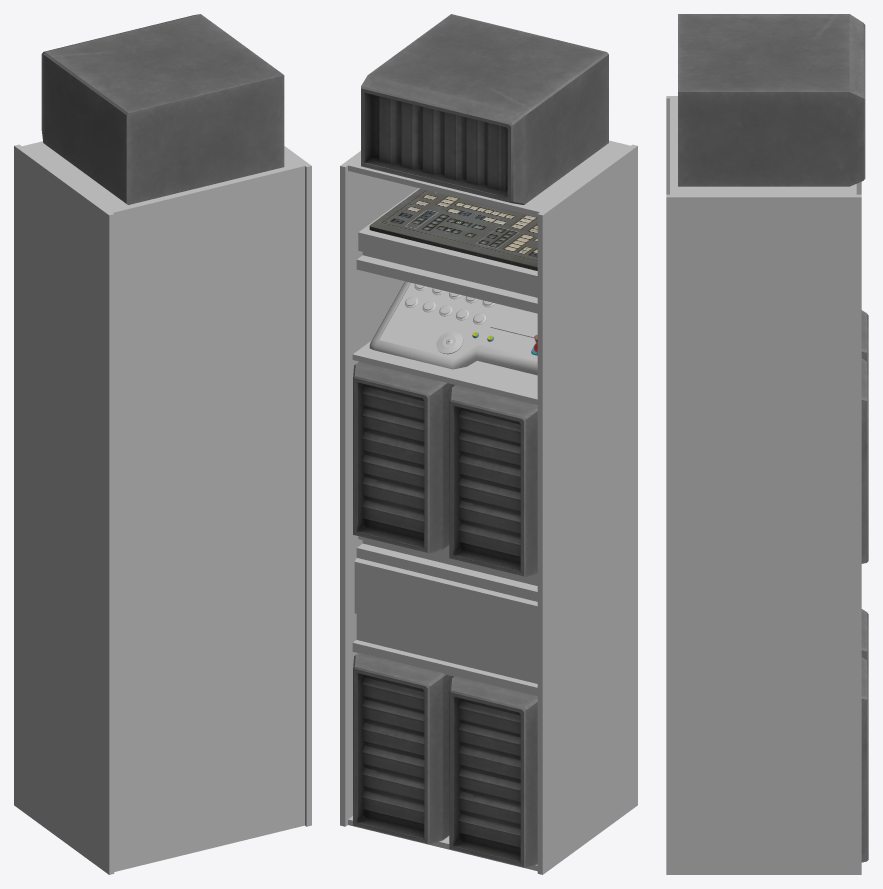
File: Server Rack.FBX
The picture shows the model from 3 angles, left to right: view 1: azimuth 30°, elevation 25°; view 2: azimuth 150°, elevation 25°; view 3: azimuth 270°, elevation 25°; orthographic projection. The views are drawn at different scales.
Visible parts, largest first — view 1: Box418, PC 014; view 2: Box418, PC 014, PC 012, PC 010, PC 013, PC 011, Control Panel _Lo002, Panel 004; view 3: Box418, PC 014, PC 012, PC 010.
Boxes of the visible parts, bbox=[...] form: Box418: bbox=[14, 141, 311, 874]; PC 014: bbox=[41, 14, 284, 204]; Box418: bbox=[340, 140, 637, 874]; PC 014: bbox=[361, 14, 608, 204]; PC 012: bbox=[353, 361, 455, 553]; PC 010: bbox=[353, 652, 453, 844]; PC 013: bbox=[449, 385, 537, 576]; PC 011: bbox=[449, 676, 537, 867]; Control Panel _Lo002: bbox=[369, 281, 537, 375]; Panel 004: bbox=[369, 188, 537, 270]; Box418: bbox=[666, 96, 861, 874]; PC 014: bbox=[678, 14, 865, 186]; PC 012: bbox=[861, 358, 868, 563]; PC 010: bbox=[861, 657, 868, 862].
Size of the model in its own units: 64.32 by 228 by 54.08.
